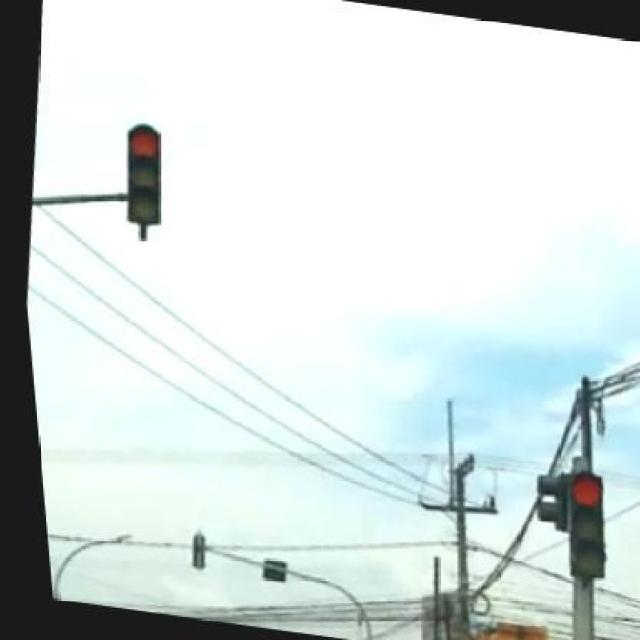Traffic Light -Red-: (119, 119, 166, 232), (569, 468, 608, 580)
